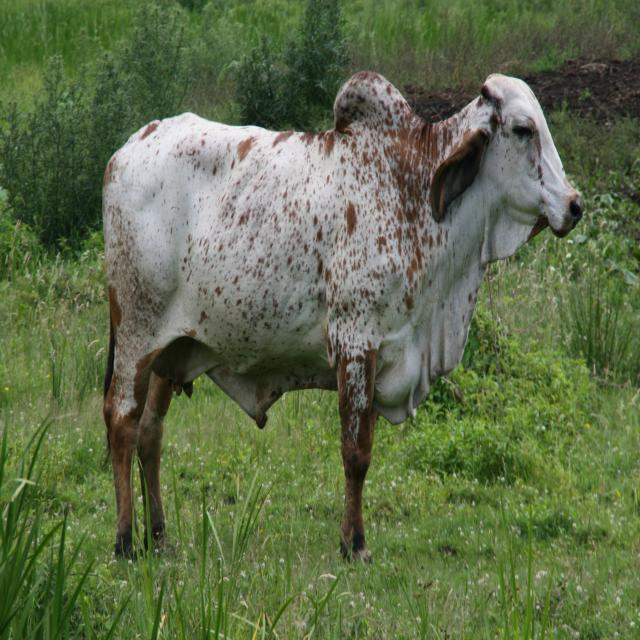cow: (102, 71, 582, 557)
